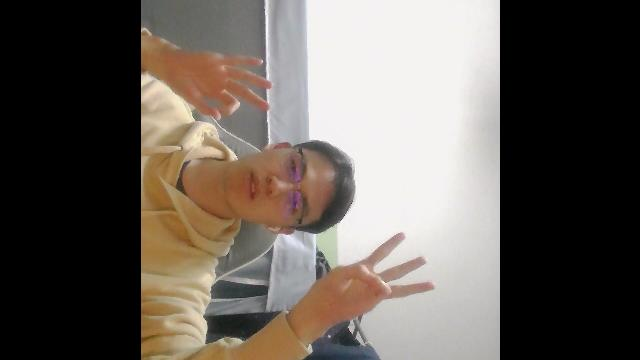ok: (170, 50, 272, 119)
three: (300, 226, 436, 333)
